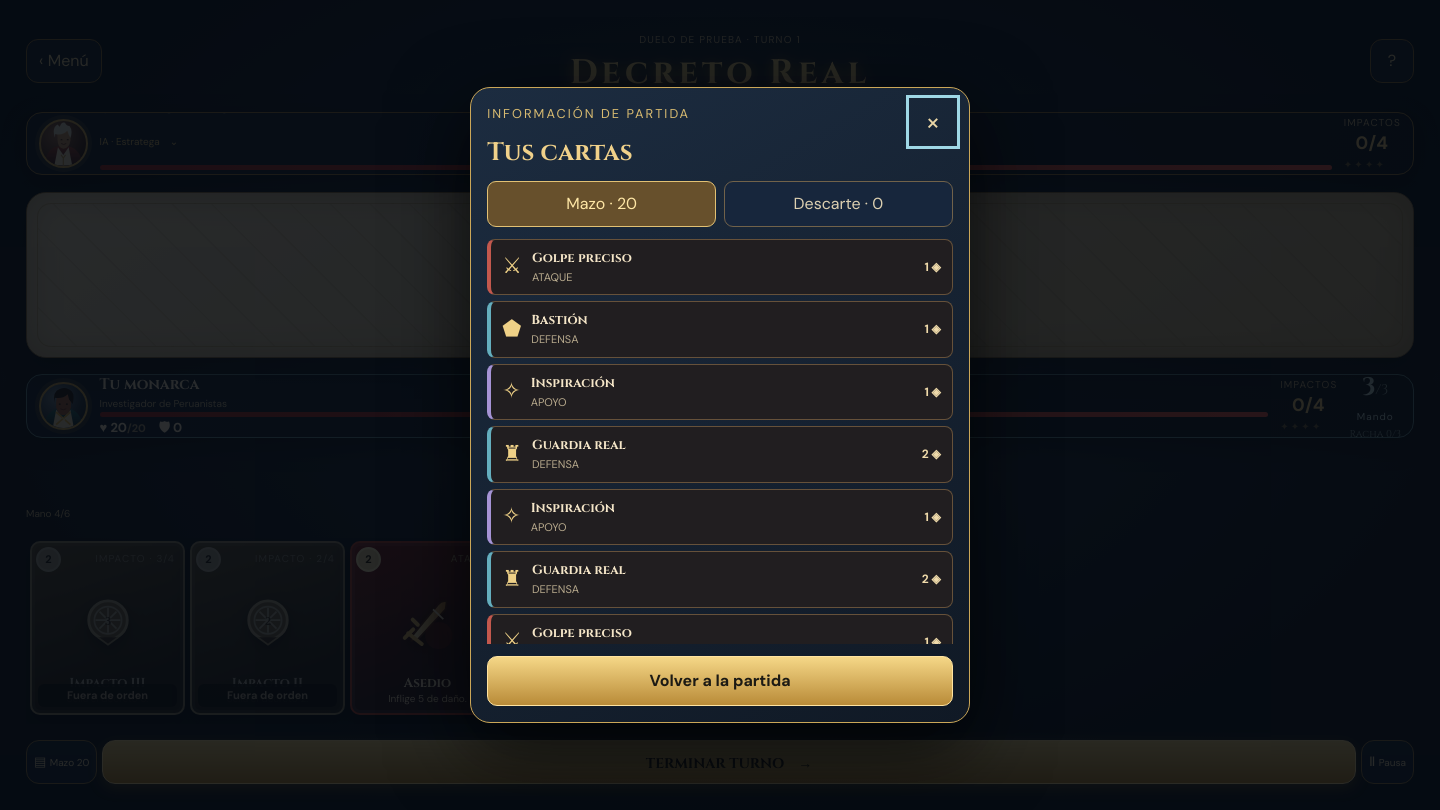
/duelo-v1 + real DR-01 engine › opens help, deck tabs, history and difficulty dialogs and closes them
The image size is (1440, 810).
Earlier steps of the test are not shown.
Click the button "Descarte · 0": (838, 204) [724,181,953,227]
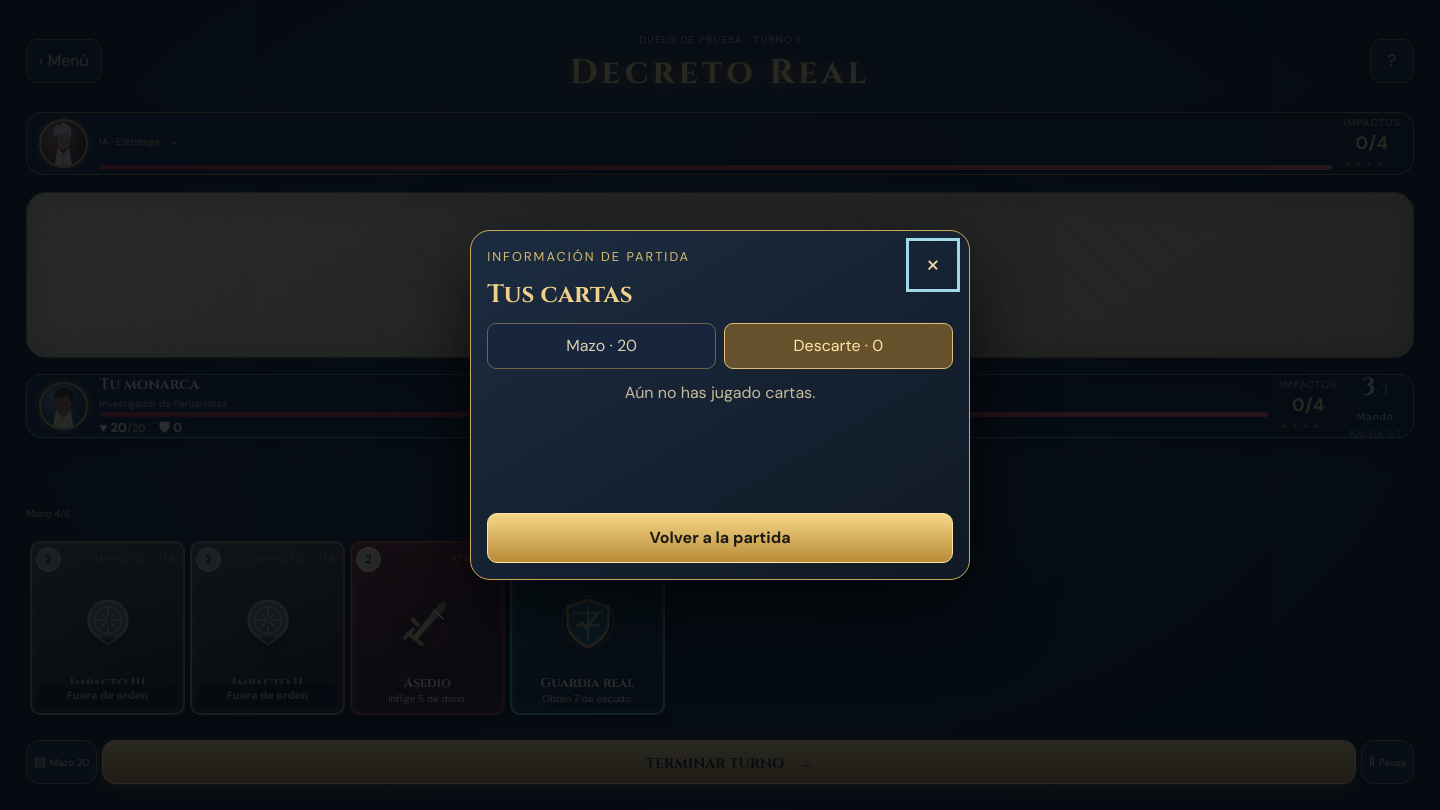
Expected: the text "Aún no has jugado cartas." is shown, [625,381,815,405]
Click the button named "Cerrar mazo": (933, 265) [911,243,955,287]
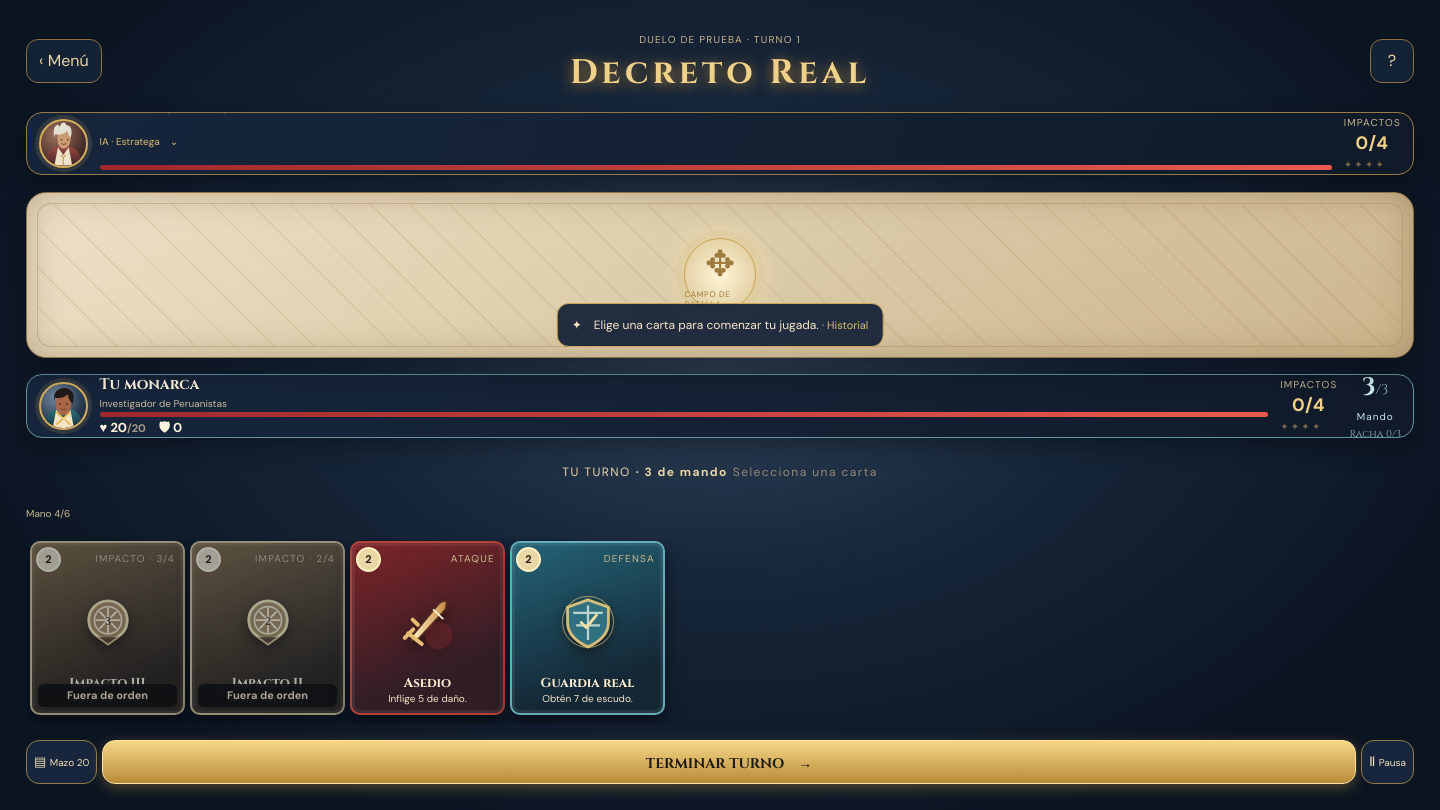
Click the button with aria-label "Ver historial de jugadas": (720, 325) [557,303,883,347]
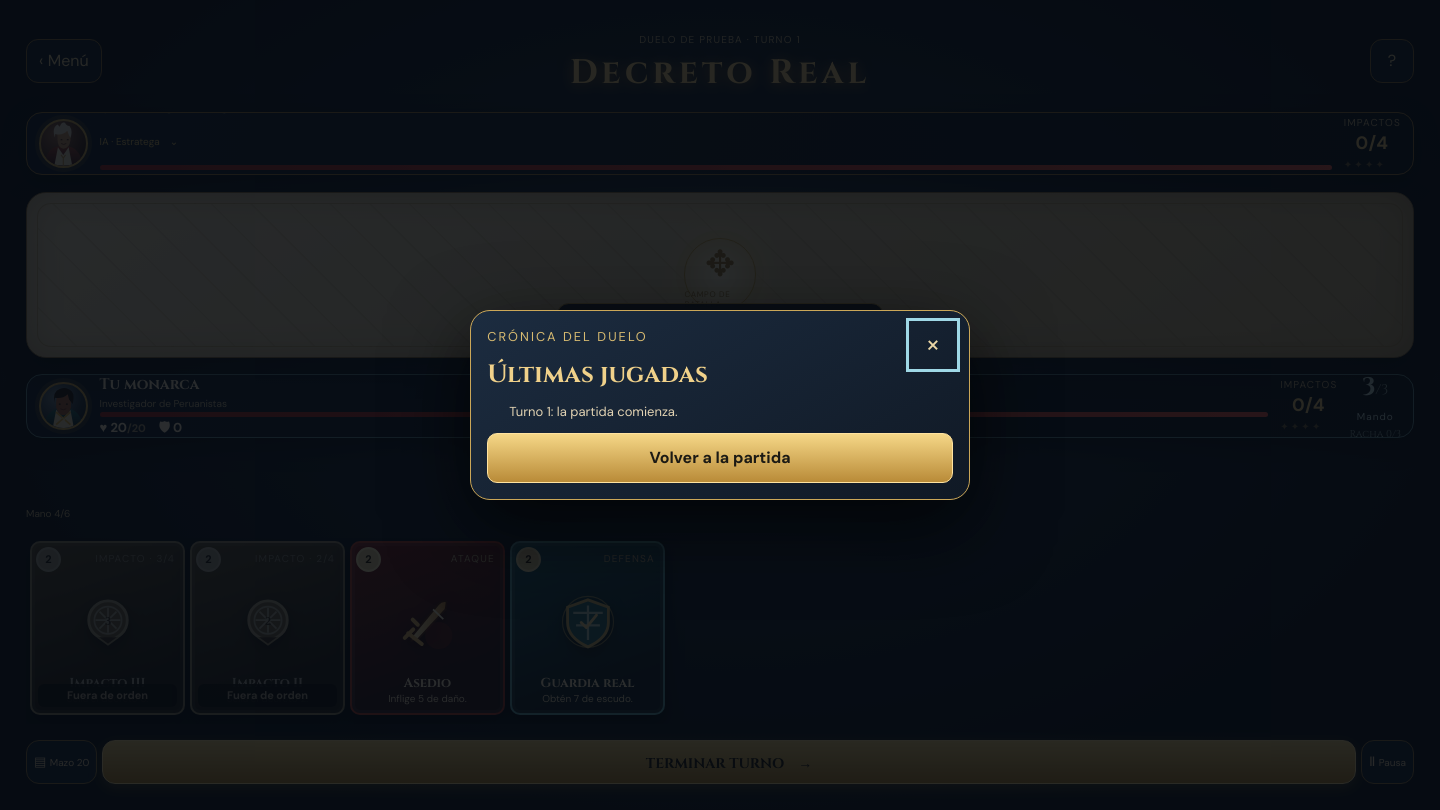
Expected: the dialog "Últimas jugadas" is shown, [470,310,970,500]
Click the button named "Cerrar historial": (933, 345) [911,323,955,367]
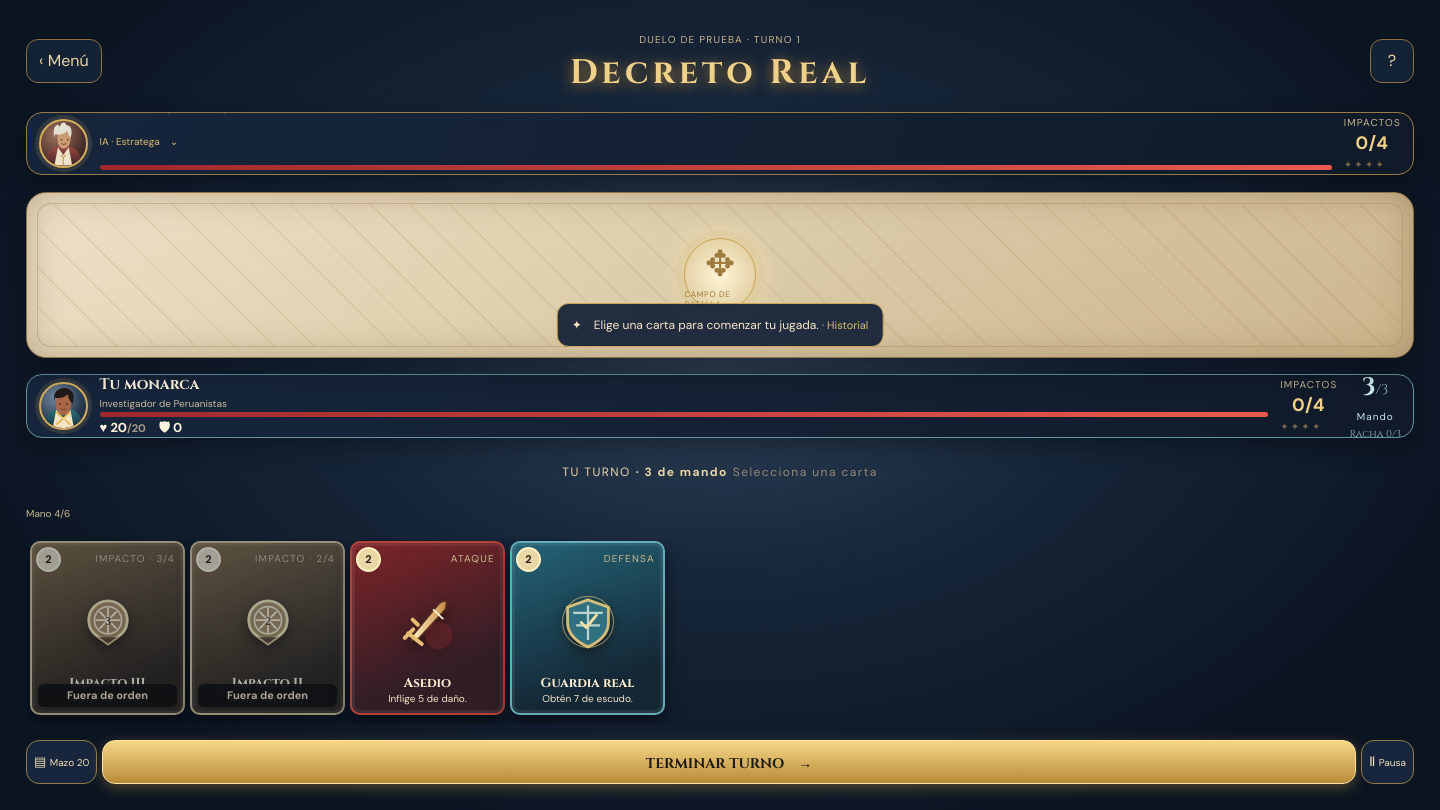
Click the button "IA · Estratega ⌄": (139, 142) [100,120,178,164]
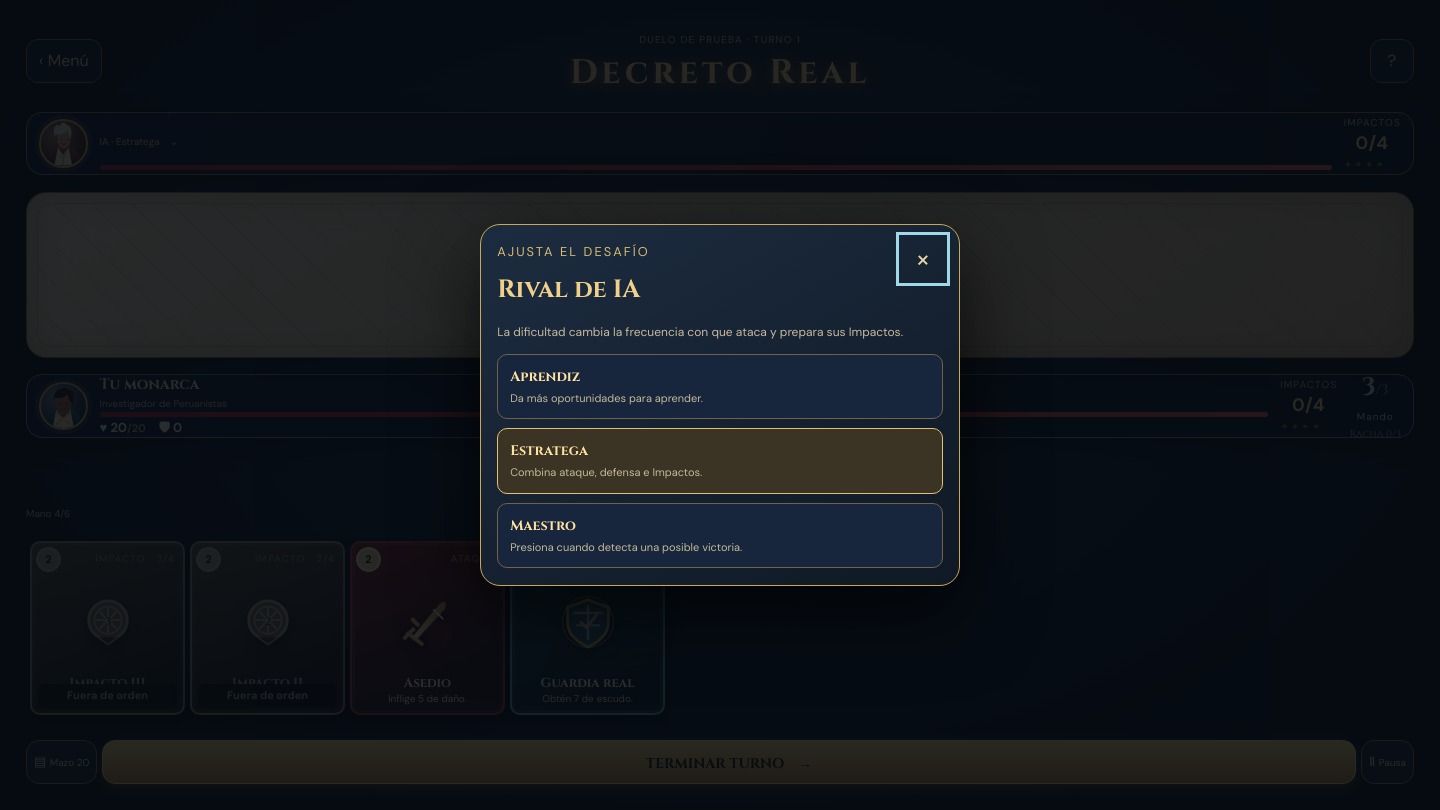
Click the button "Maestro Presiona cuando detecta una posible victoria.": (543, 525) [497,503,943,568]
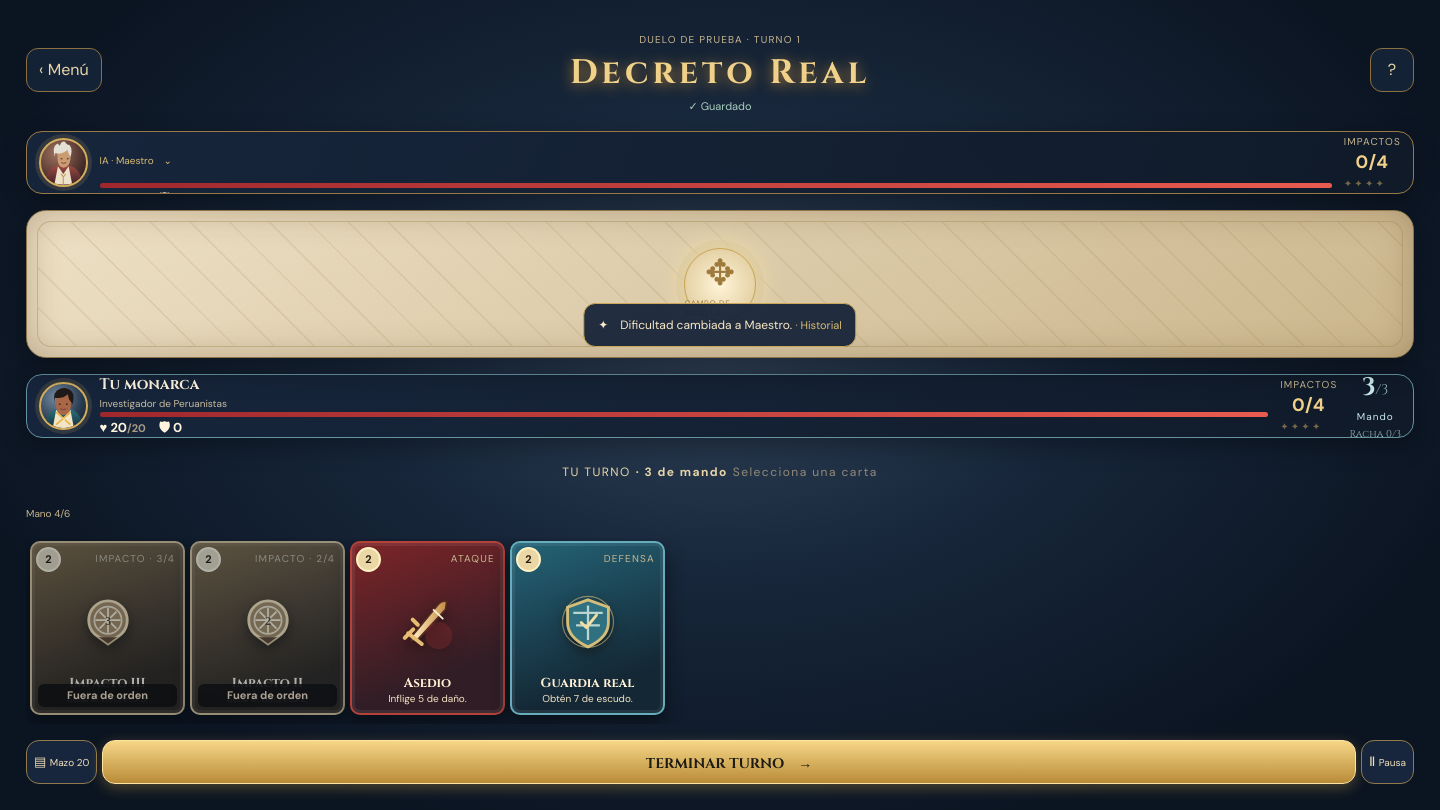
Expected: the button "IA · Maestro ⌄" is shown, [100,138,172,182]
Expected: the dialog is gone
